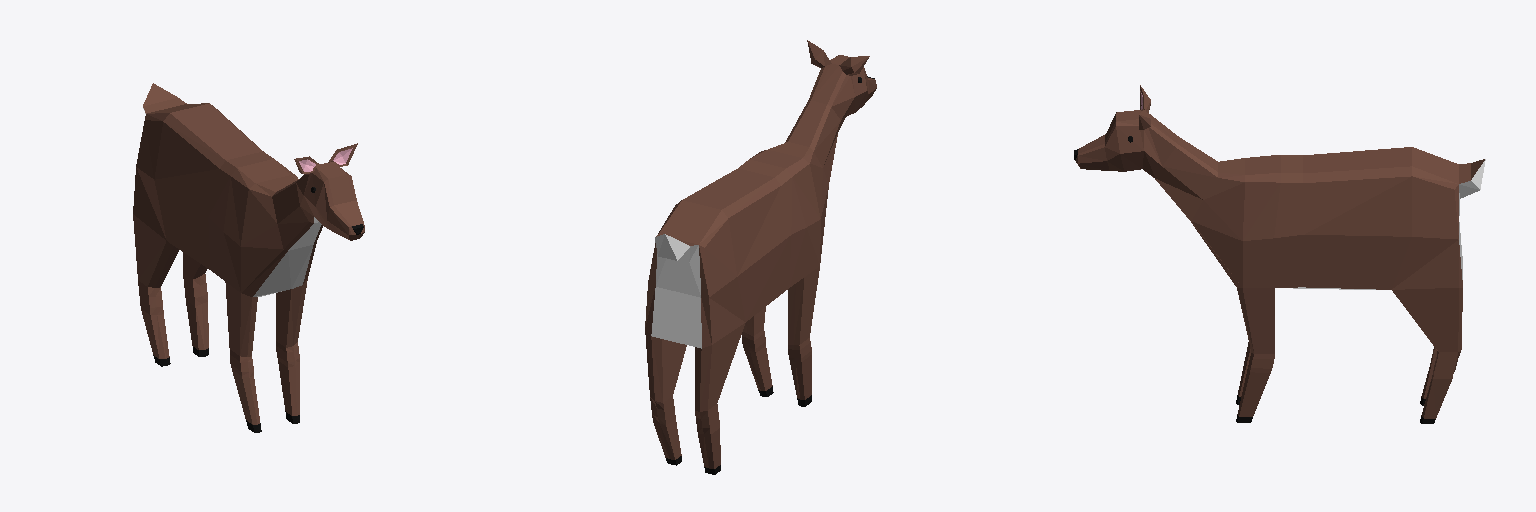
Rendered from Deer_01.obj.
The picture shows the model from 3 angles: view 1: azimuth 30°, elevation 25°; view 2: azimuth 150°, elevation 25°; view 3: azimuth 270°, elevation 25°; orthographic projection.
Parts seen in each view (by area): view 1: Deer_01_Cube.053; view 2: Deer_01_Cube.053; view 3: Deer_01_Cube.053.
Part boxes in pixels (x1,y1,x2,y2): Deer_01_Cube.053: (133,83,364,432); Deer_01_Cube.053: (645,40,876,474); Deer_01_Cube.053: (1074,85,1485,423).
Bounding box in the file's own units: 2.39 × 10.08 × 12.